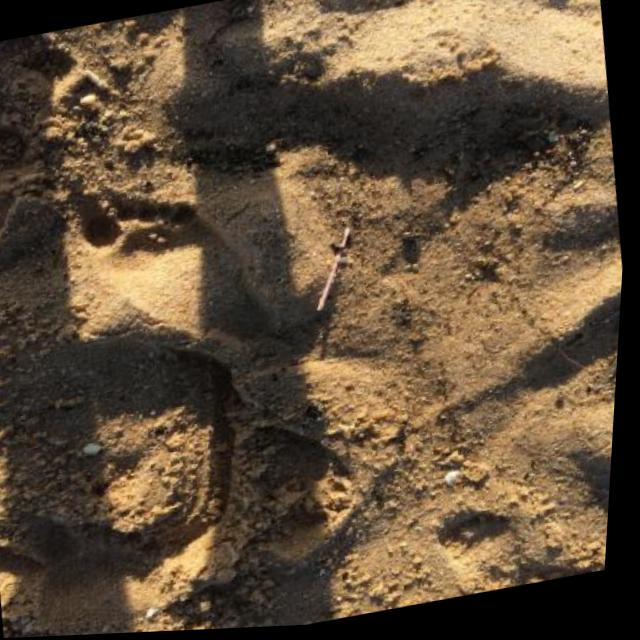plastic: (304, 227, 364, 311)
